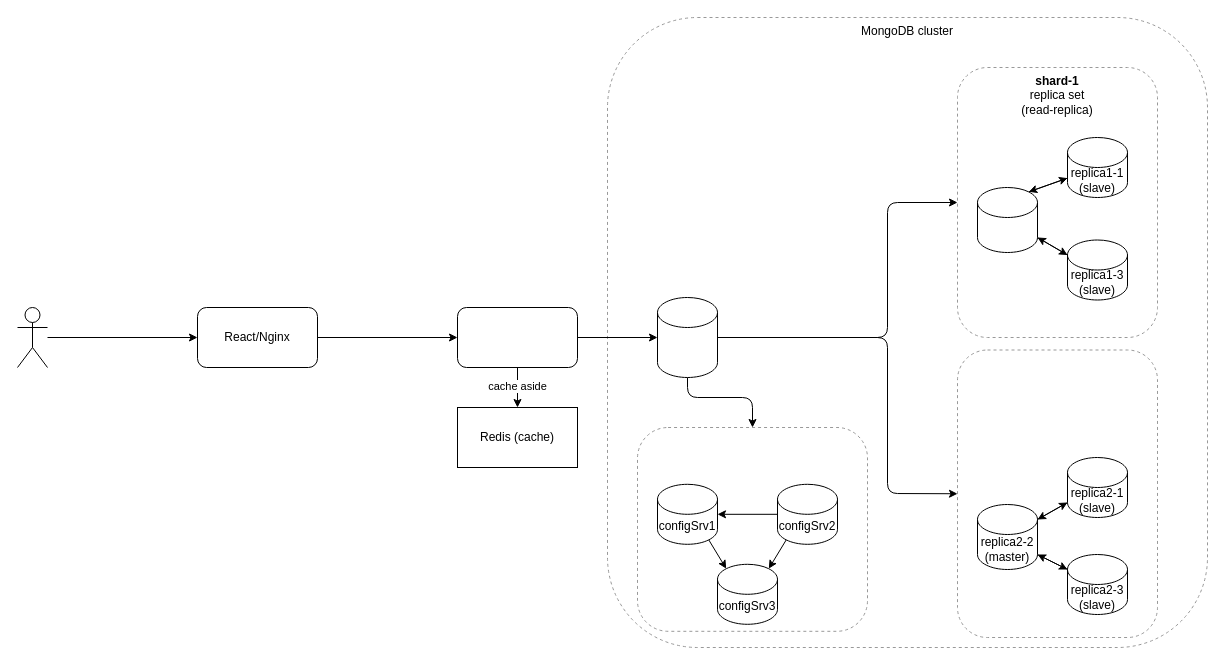
Some shapes in this 1225 by 665 pixel diagram are drawn without their labels. The box of each missing label's shape, as (x1, y1, x2, y2) in pixels:
Actor: (16, 306, 48, 368)
configSrv replica set: (636, 426, 868, 631)
mongos: (656, 296, 718, 378)
pymongo-api: (456, 306, 578, 368)
replica1 -2 (master): (976, 186, 1038, 252)
shard-2 replica set (read-replica): (956, 349, 1158, 638)
